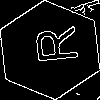R: (25, 25, 78, 66)
